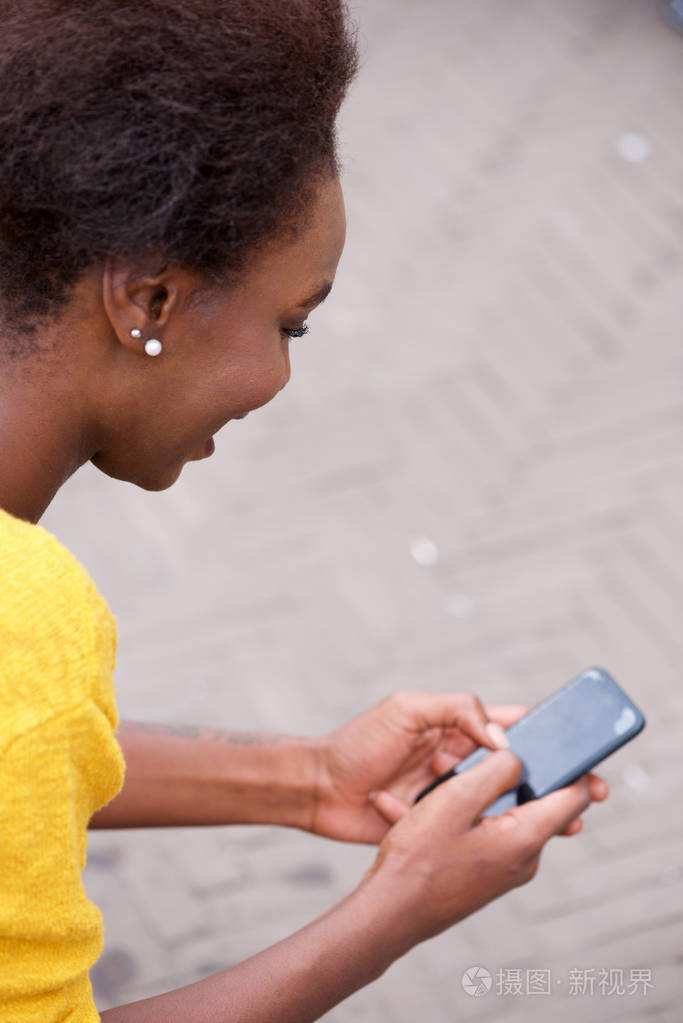reading: (297, 656, 654, 964)
